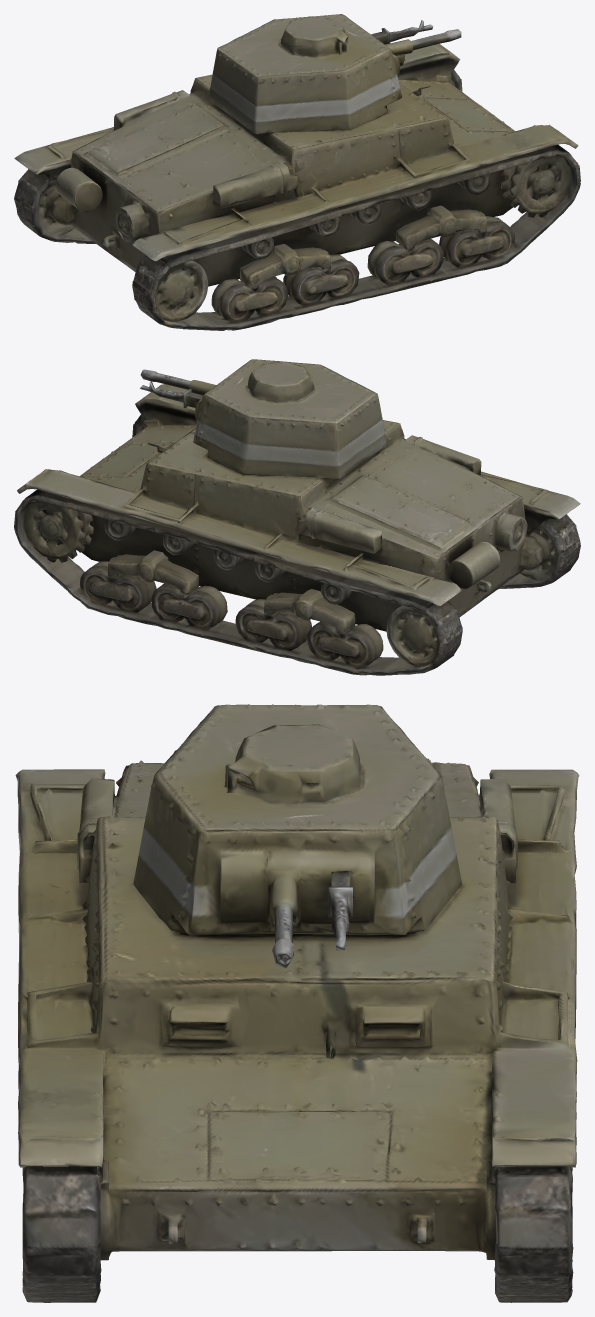
The model's file is r2_tripo.glb.
3 renders of one model, top to bottom at view 1: azimuth 30°, elevation 25°; view 2: azimuth 150°, elevation 25°; view 3: azimuth 270°, elevation 25°, orthographic. The views are drawn at different scales.
Parts seen in each view (by area): view 1: tripo_node_763cf227-9b76-4d4a-bf4a-4c021904fdf9; view 2: tripo_node_763cf227-9b76-4d4a-bf4a-4c021904fdf9; view 3: tripo_node_763cf227-9b76-4d4a-bf4a-4c021904fdf9.
Part boxes in pixels (<box>): tripo_node_763cf227-9b76-4d4a-bf4a-4c021904fdf9: <box>14,14,580,330</box>; tripo_node_763cf227-9b76-4d4a-bf4a-4c021904fdf9: <box>14,359,580,675</box>; tripo_node_763cf227-9b76-4d4a-bf4a-4c021904fdf9: <box>15,704,579,1302</box>.
Bounding box in the file's own units: 1 × 0.4831 × 0.5645.
1 material, 1 textured.
